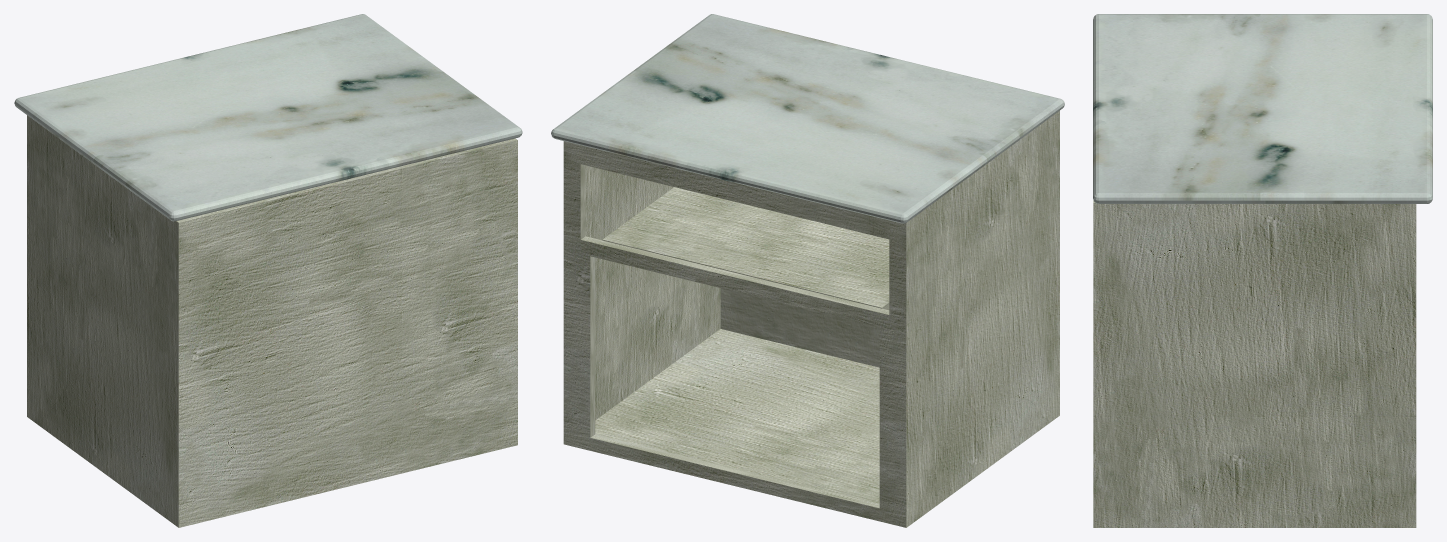
Rendered from beddresser1.fbx.
The picture shows the model from 3 angles, left to right: view 1: azimuth 30°, elevation 25°; view 2: azimuth 150°, elevation 25°; view 3: azimuth 270°, elevation 25°; orthographic projection. The views are drawn at different scales.
Visible parts, largest first — view 1: Box10; view 2: Box10; view 3: Box10.
Boxes of the visible parts, bbox=[...] form: Box10: bbox=[14, 14, 522, 527]; Box10: bbox=[551, 14, 1064, 527]; Box10: bbox=[1093, 14, 1432, 527].
Size of the model in its own units: 0.74 by 0.58 by 0.6326.
Materials: 2 (2 with a texture image).
